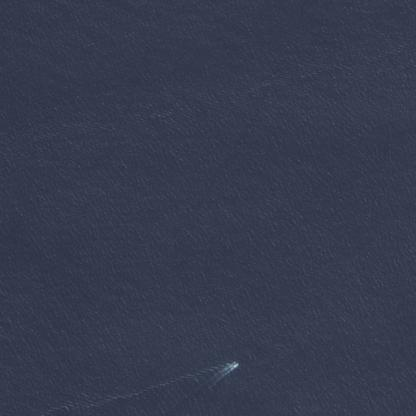ship: (230, 361, 238, 368)
